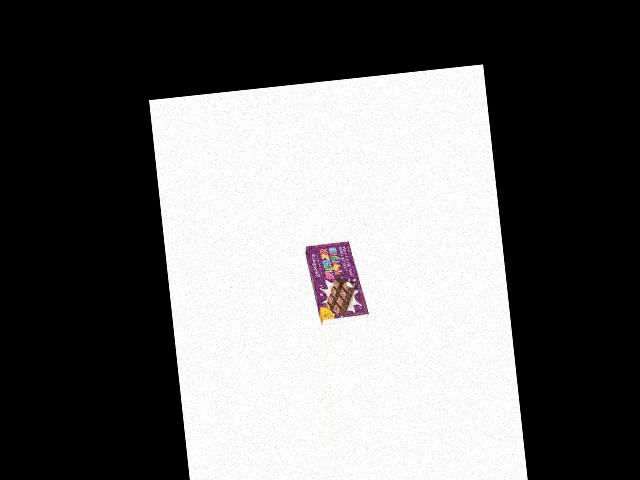chocolate: (304, 234, 365, 327)
